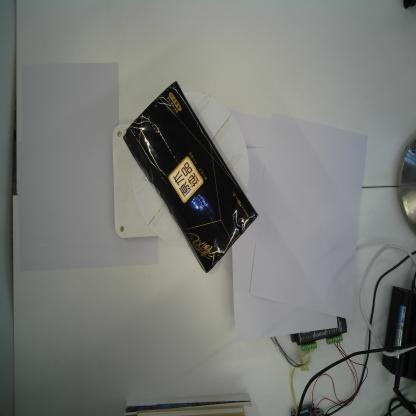Tissue: (121, 78, 260, 274)
